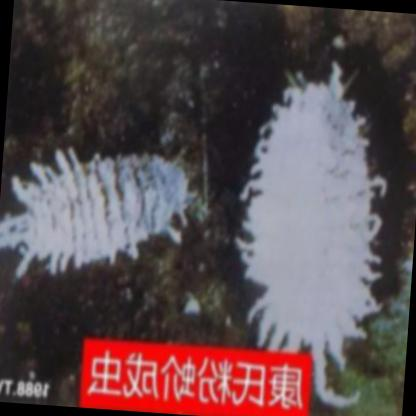mealy bug: (236, 67, 374, 407), (4, 149, 189, 275)
